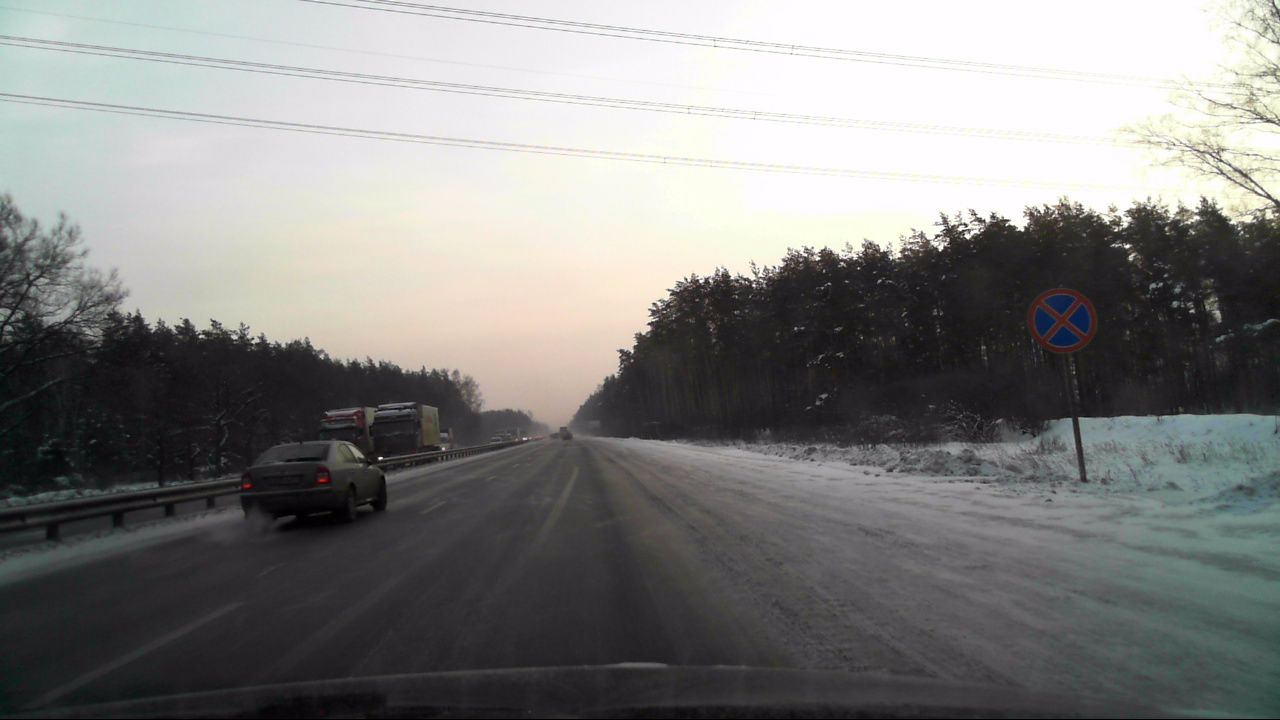No Parking: (1027, 287, 1095, 354)
